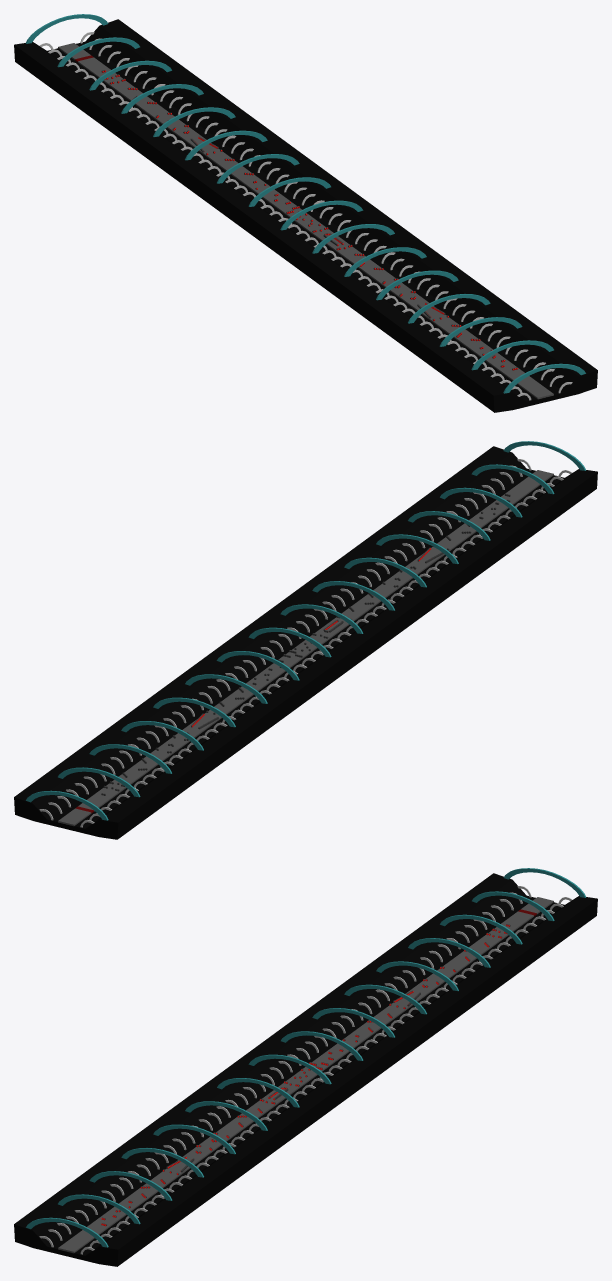
File: ArchParadiseV2 (4).fbx
3 renders of one model, top to bottom at view 1: azimuth 30°, elevation 25°; view 2: azimuth 150°, elevation 25°; view 3: azimuth 330°, elevation 25°, orthographic.
Parts seen in each view (by area): view 1: Plane.004, Plane.005, Plane.006, Plane.002, Plane, Plane.003; view 2: Plane.004, Plane.005, Plane.006, Plane.002, Plane, Plane.003; view 3: Plane.006, Plane.003, Plane.004, Plane.002, Plane, Plane.005.
Part boxes in pixels (box(x1,y1,x2,y2)): Plane.004: box(14, 42, 512, 412); Plane.005: box(85, 25, 578, 397); Plane.006: box(100, 19, 597, 393); Plane.002: box(47, 41, 564, 406); Plane: box(58, 43, 553, 399); Plane.003: box(35, 43, 526, 409); Plane.004: box(99, 469, 597, 839); Plane.005: box(33, 452, 526, 824); Plane.006: box(14, 446, 511, 820); Plane.002: box(47, 468, 564, 833); Plane: box(58, 470, 553, 826); Plane.003: box(85, 470, 576, 836); Plane.006: box(99, 896, 597, 1266); Plane.003: box(33, 879, 526, 1251); Plane.004: box(14, 873, 511, 1247); Plane.002: box(47, 895, 564, 1260); Plane: box(58, 897, 553, 1253); Plane.005: box(85, 897, 576, 1263).
Size of what is drawn, in the model's own units: 12571 by 4057 by 100000.
